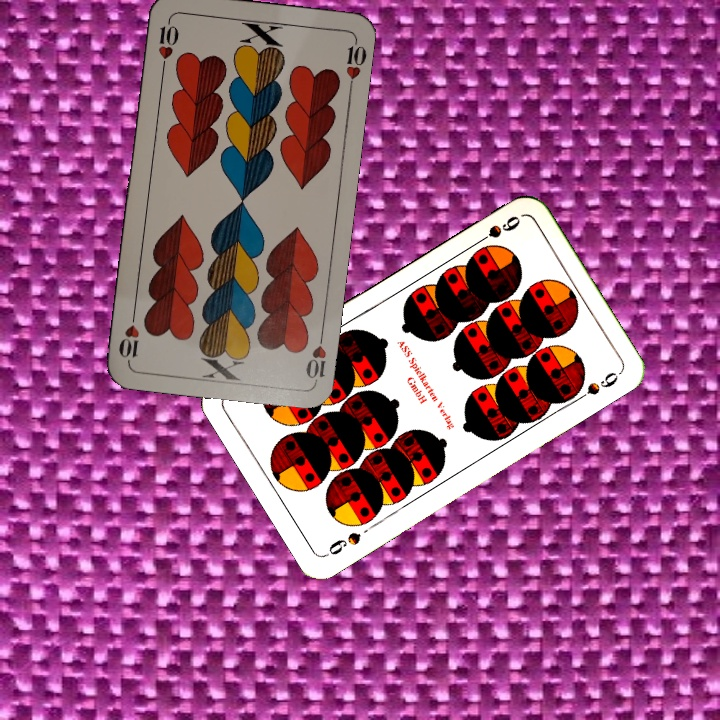H10: (154, 15, 181, 75), (302, 326, 329, 385)
S9: (470, 211, 524, 249), (322, 527, 364, 560)
